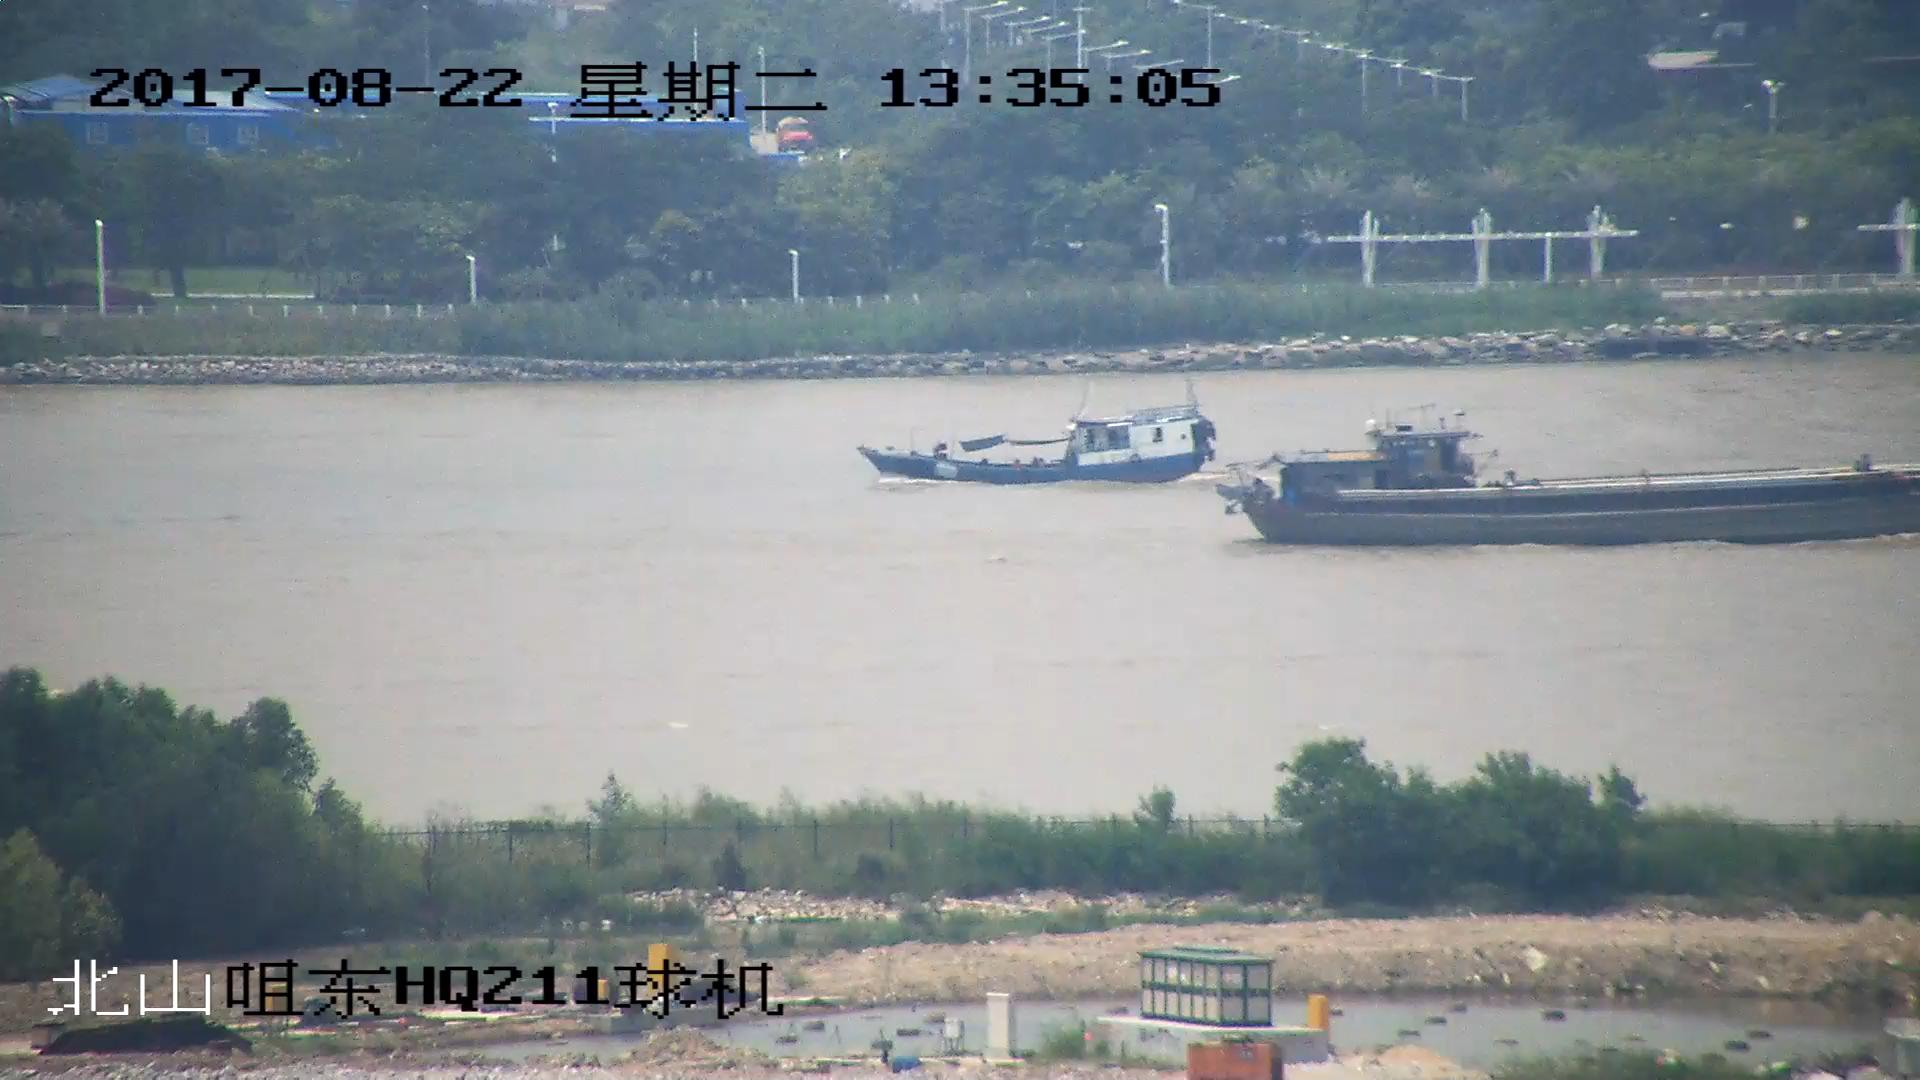bulk cargo carrier: (1214, 425, 1920, 550)
fishing boat: (863, 397, 1219, 484)
